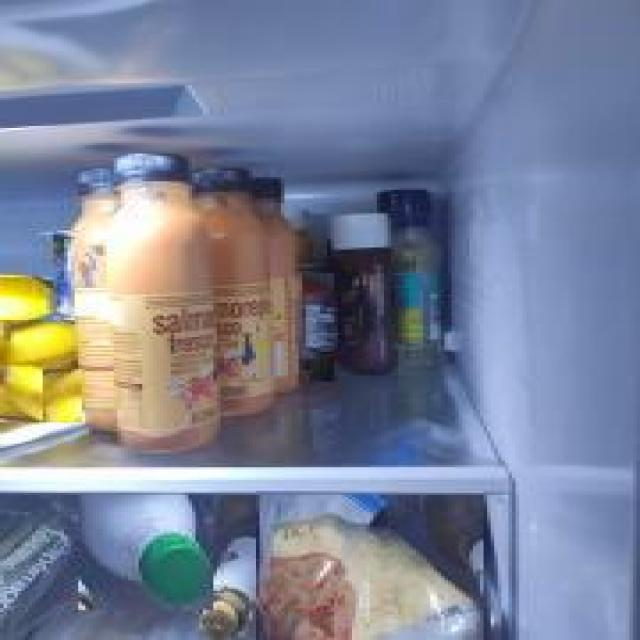banana: (0, 367, 82, 422), (2, 326, 73, 366), (0, 364, 43, 422), (0, 277, 53, 319)
grated_cheese: (256, 490, 483, 640)
milk: (78, 490, 214, 610)
tomato_sauce: (300, 273, 336, 382)
yogurt: (53, 232, 75, 318)
